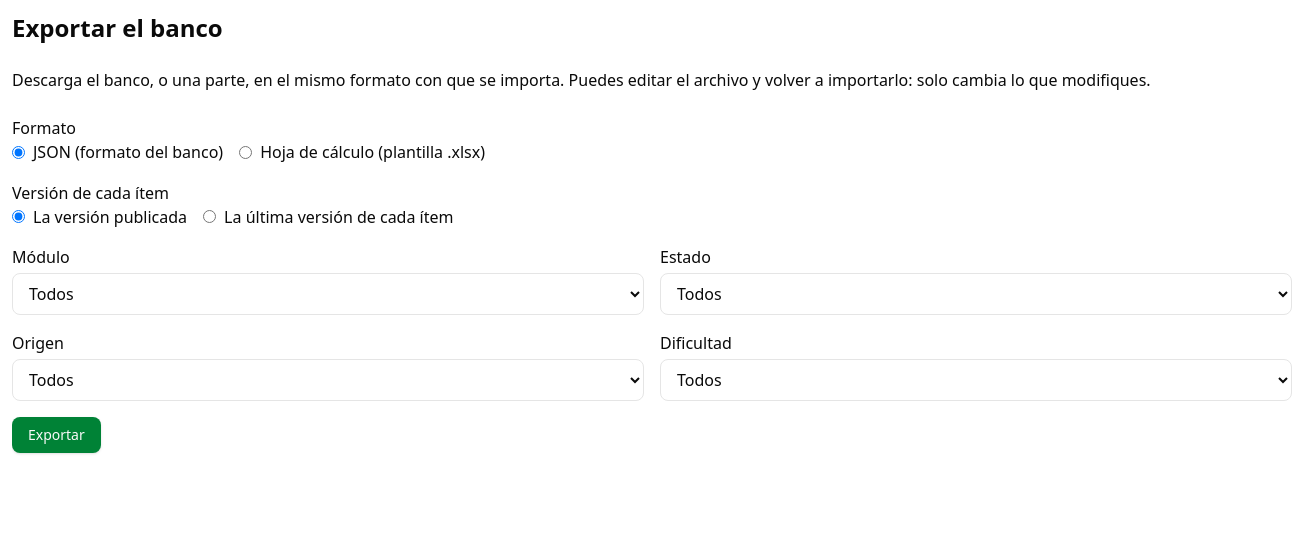
exportación del banco › muestra el error si la exportación falla
Click the button "Exportar".
click(56, 435)  # box [12,417,101,453]
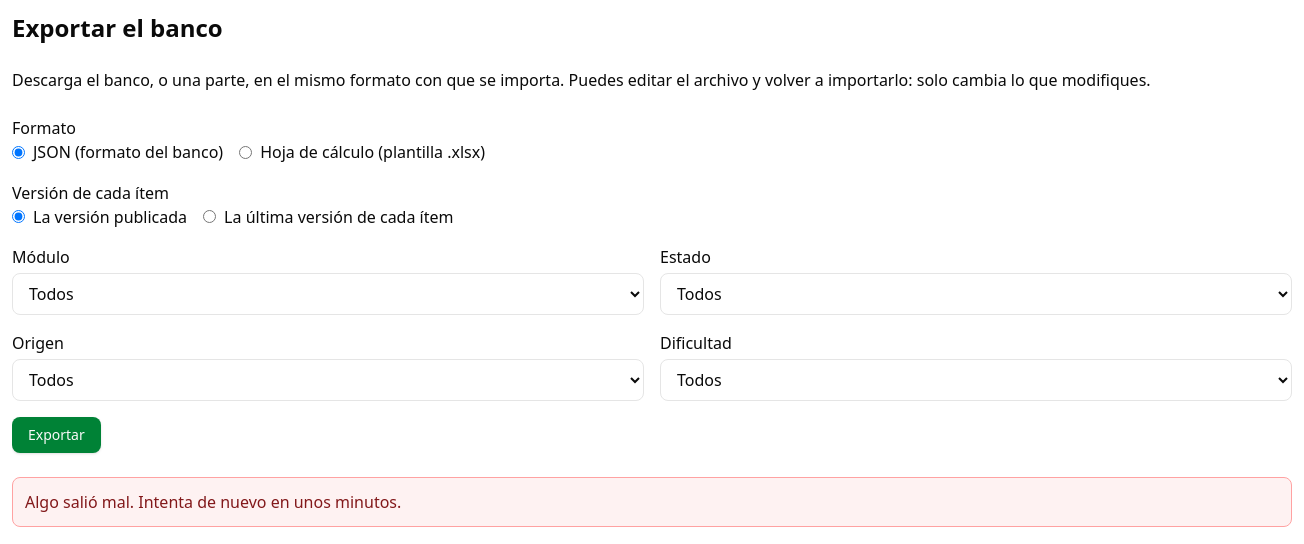
Now the message "Algo salió mal. Intenta de nuevo en unos minutos." is shown, box [12,477,1292,527]
